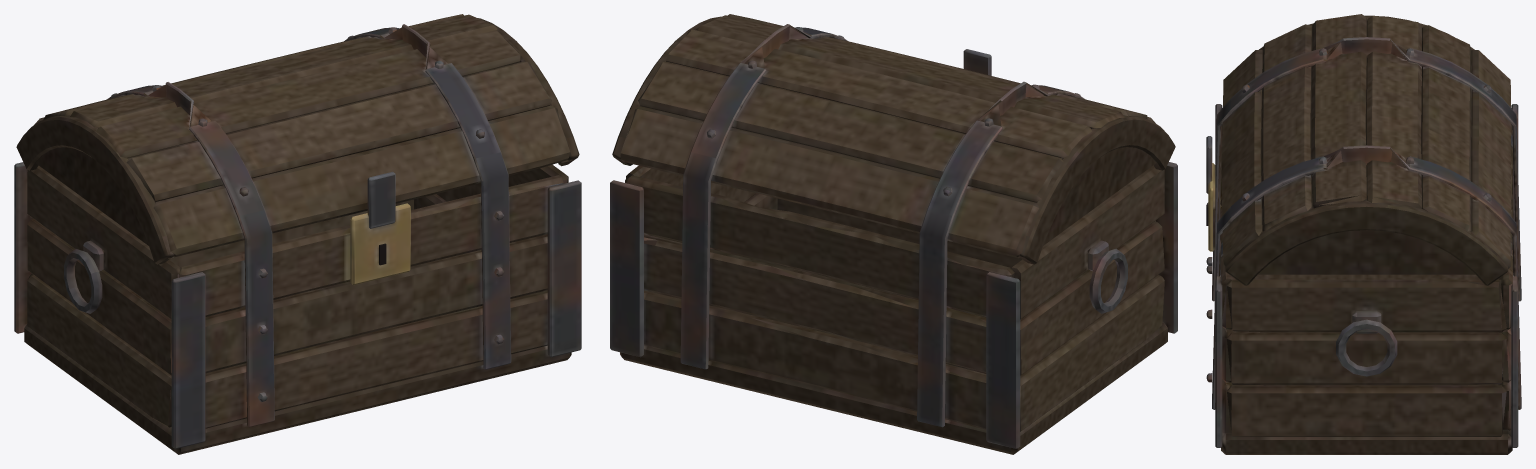
Rendered from chest.glb.
3 renders of one model, left to right at view 1: azimuth 30°, elevation 25°; view 2: azimuth 150°, elevation 25°; view 3: azimuth 270°, elevation 25°, orthographic. The views are drawn at different scales.
Parts seen in each view (by area): view 1: chest; view 2: chest; view 3: chest.
Part boxes in pixels (x1,y1,x2,y2): chest: (14, 14, 581, 454); chest: (610, 14, 1177, 454); chest: (1206, 14, 1521, 454).
Size of the model in its own units: 0.8156 by 0.519 by 0.5404.
Materials: 1 (1 with a texture image).
